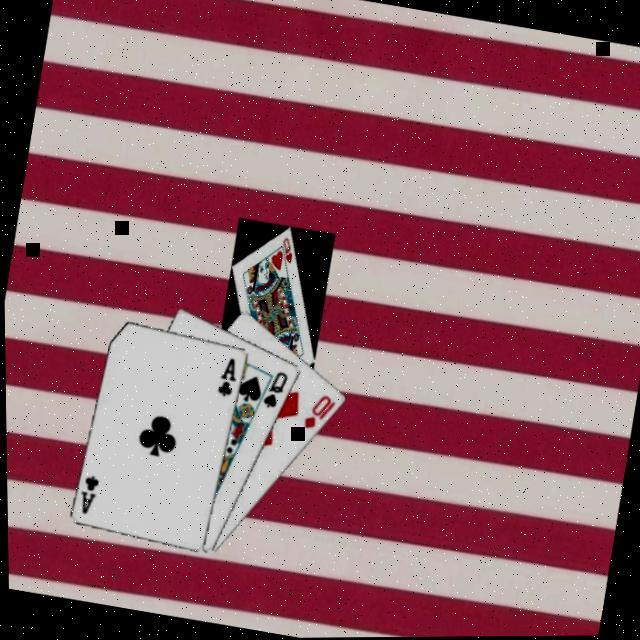10D: (296, 388, 338, 434)
AC: (70, 469, 99, 517), (210, 352, 239, 399)
QS: (255, 364, 289, 412)
